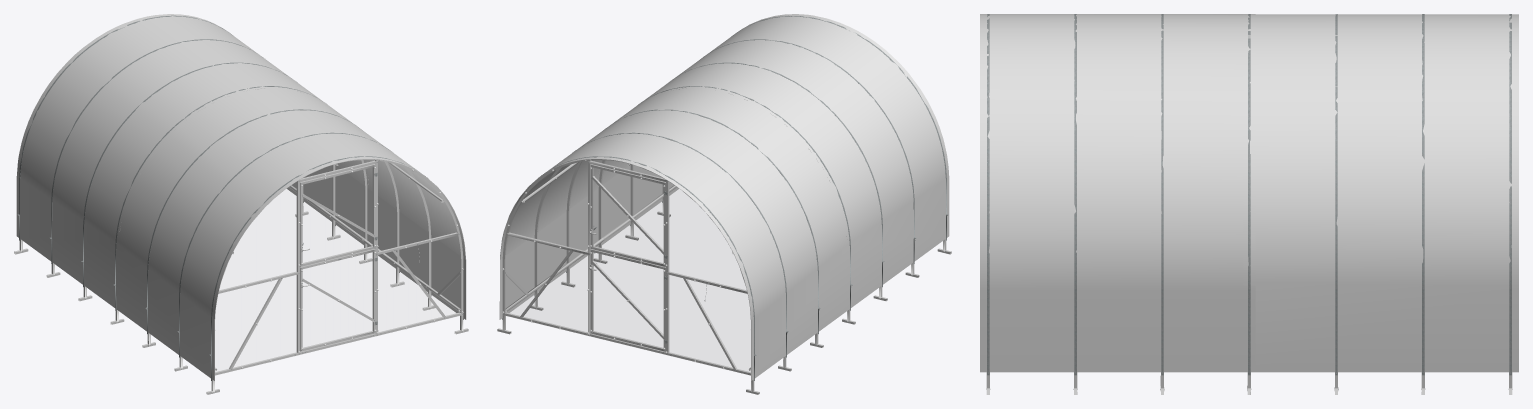
File: greenhouse.glb
3 renders of one model, left to right at view 1: azimuth 30°, elevation 25°; view 2: azimuth 150°, elevation 25°; view 3: azimuth 270°, elevation 25°, orthographic. The views are drawn at different scales.
Parts seen in each view (by area): view 1: Object_3, Object_2, Object_46, Object_97; view 2: Object_3, Object_2, Object_46, Object_97; view 3: Object_3, Object_97, Object_46.
Boxes of the visible parts, x1=… form: Object_3: x1=16, y1=14, x2=466, y2=380; Object_2: x1=215, y1=160, x2=462, y2=374; Object_46: x1=14, y1=159, x2=468, y2=394; Object_97: x1=17, y1=15, x2=463, y2=392; Object_3: x1=499, y1=14, x2=949, y2=380; Object_2: x1=503, y1=160, x2=750, y2=374; Object_46: x1=497, y1=159, x2=951, y2=394; Object_97: x1=502, y1=15, x2=948, y2=392; Object_3: x1=980, y1=14, x2=1518, y2=372; Object_97: x1=986, y1=14, x2=1512, y2=389; Object_46: x1=986, y1=372, x2=1512, y2=394.
Bounding box in the file's own units: 3.13 × 2.32 × 4.1.
6 materials, 2 textured.
